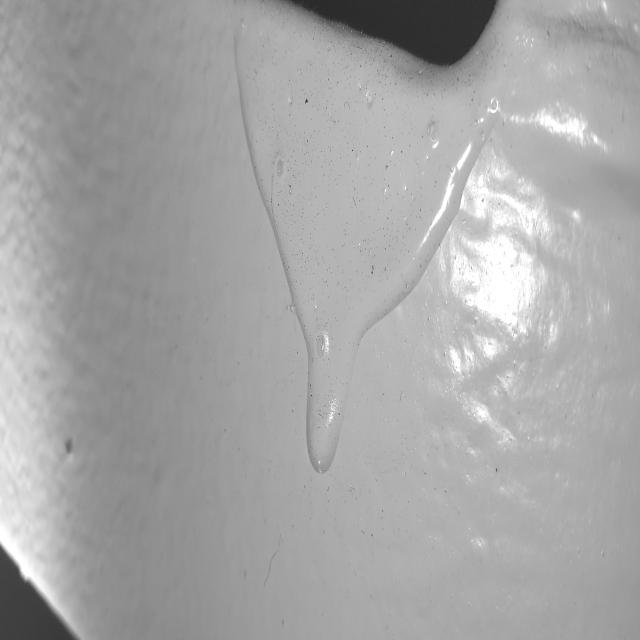paint drips: (233, 19, 511, 506)
